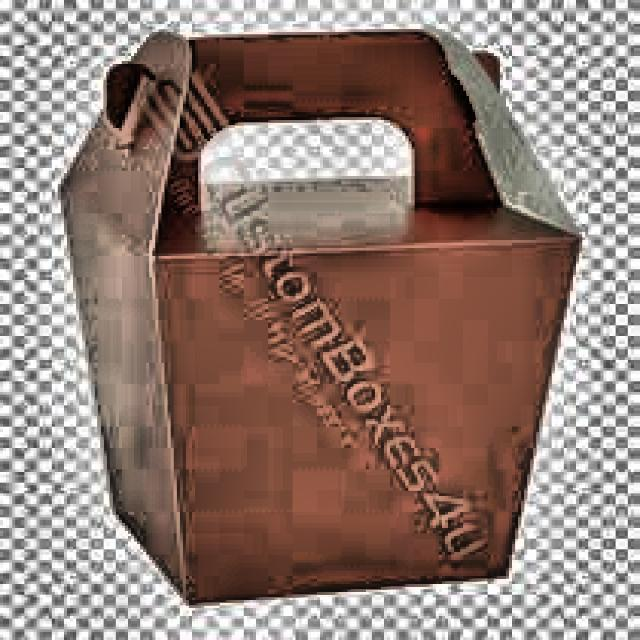cardboard: (55, 23, 582, 606)
